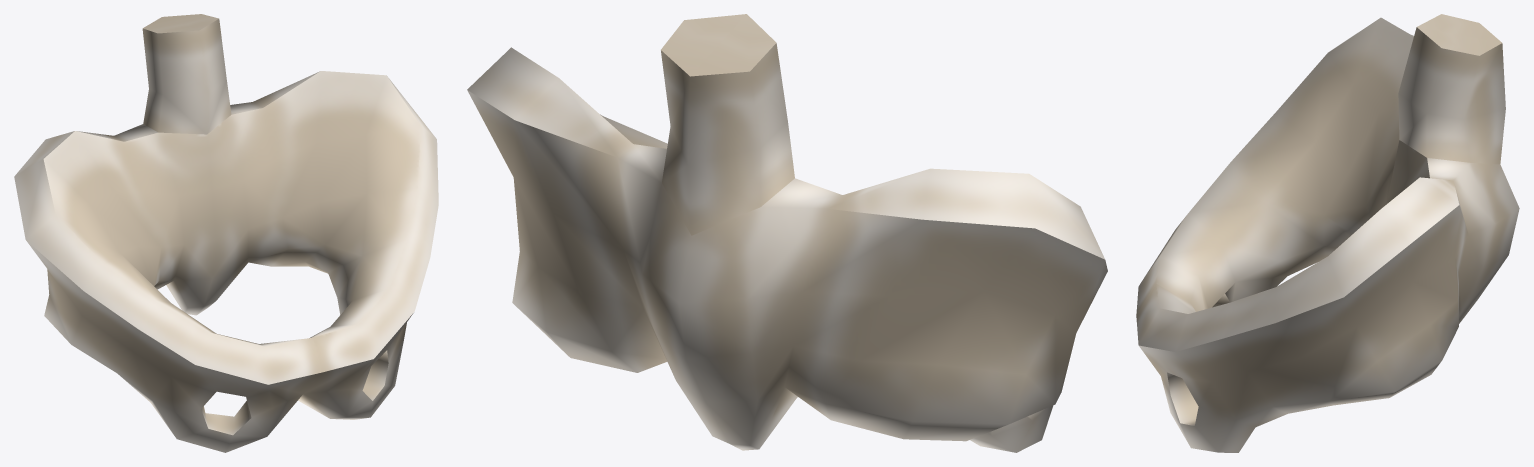
File: Pelvis.fbx
3 views of the same model, side by side, from view 1: azimuth 30°, elevation 25°; view 2: azimuth 150°, elevation 25°; view 3: azimuth 270°, elevation 25° (orthographic). The views are drawn at different scales.
Visible parts, largest first — view 1: Pelvis; view 2: Pelvis; view 3: Pelvis.
Part boxes in pixels (left/top/right/bottom): Pelvis: left=14, top=14, right=438, bottom=452; Pelvis: left=467, top=14, right=1107, bottom=452; Pelvis: left=1136, top=14, right=1519, bottom=452.
Size of the model in its own units: 29.22 by 22.93 by 20.6.
